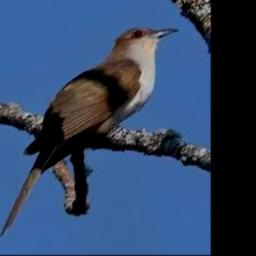Cuckoo: (0, 26, 179, 236)
